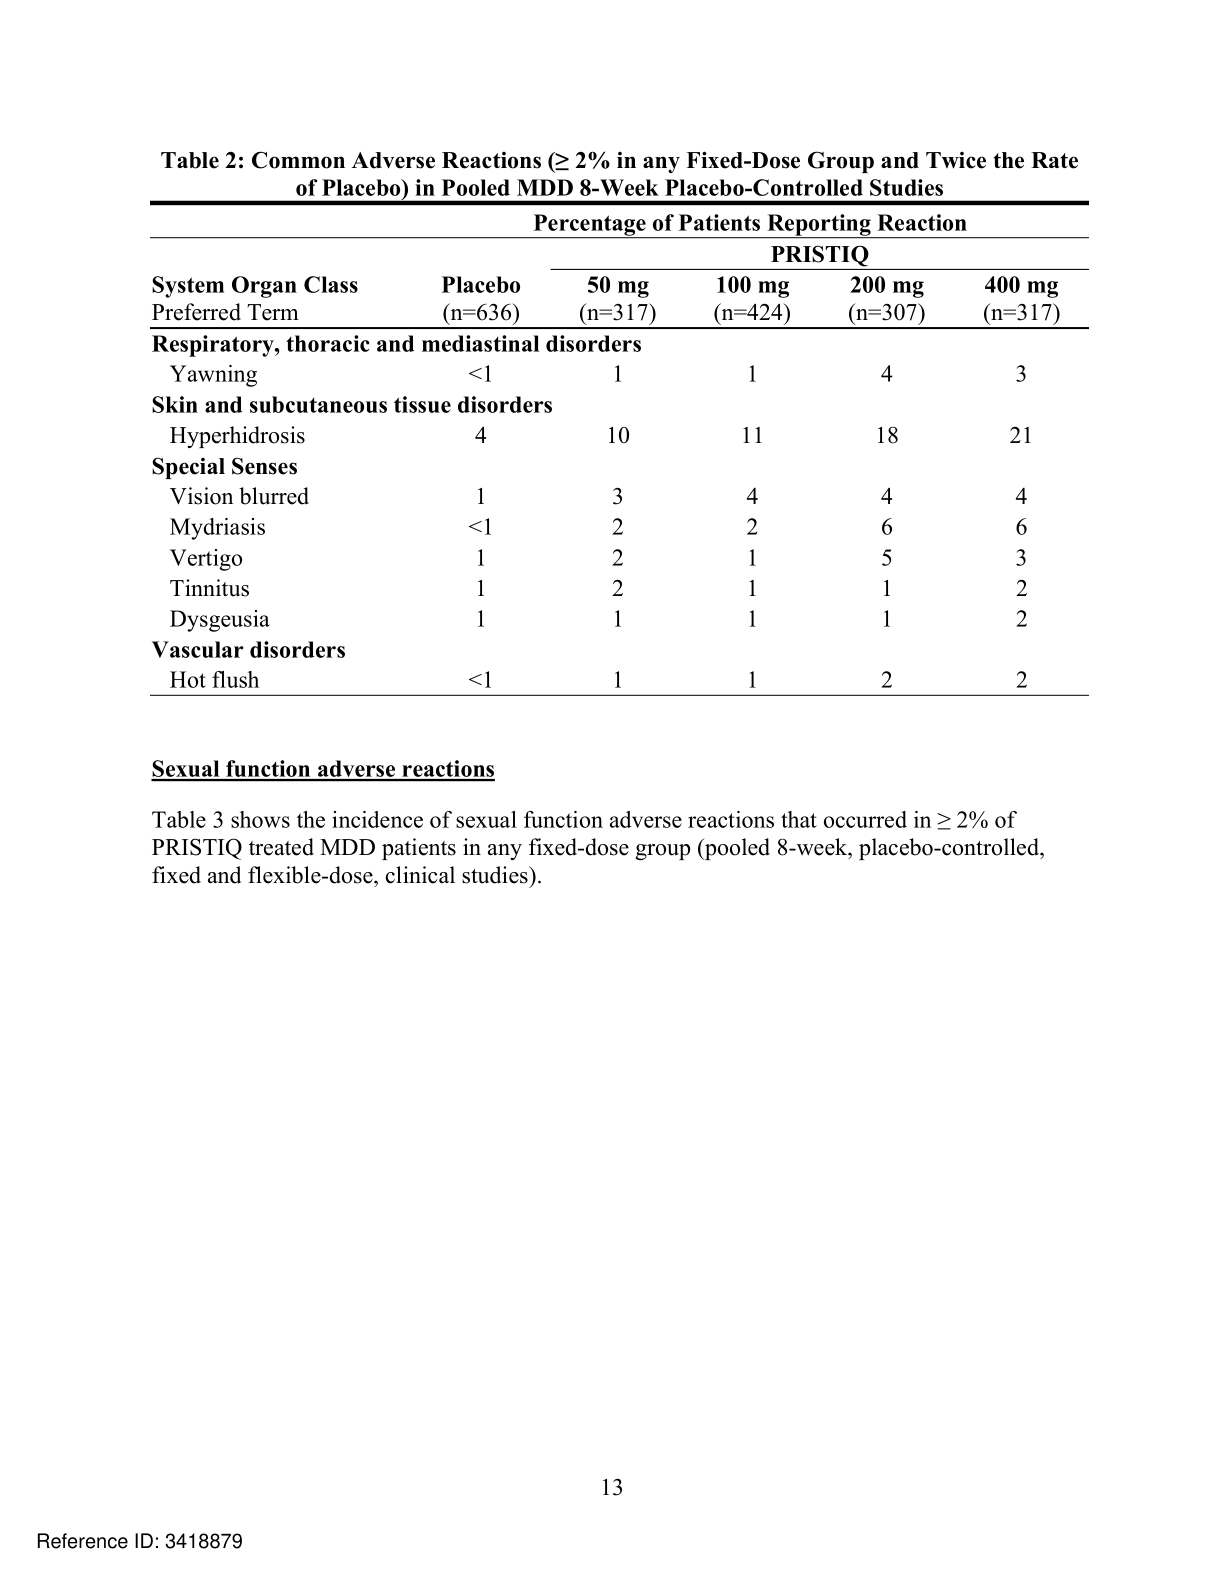partial_lined_merged_cells: (148, 199, 1090, 698)
